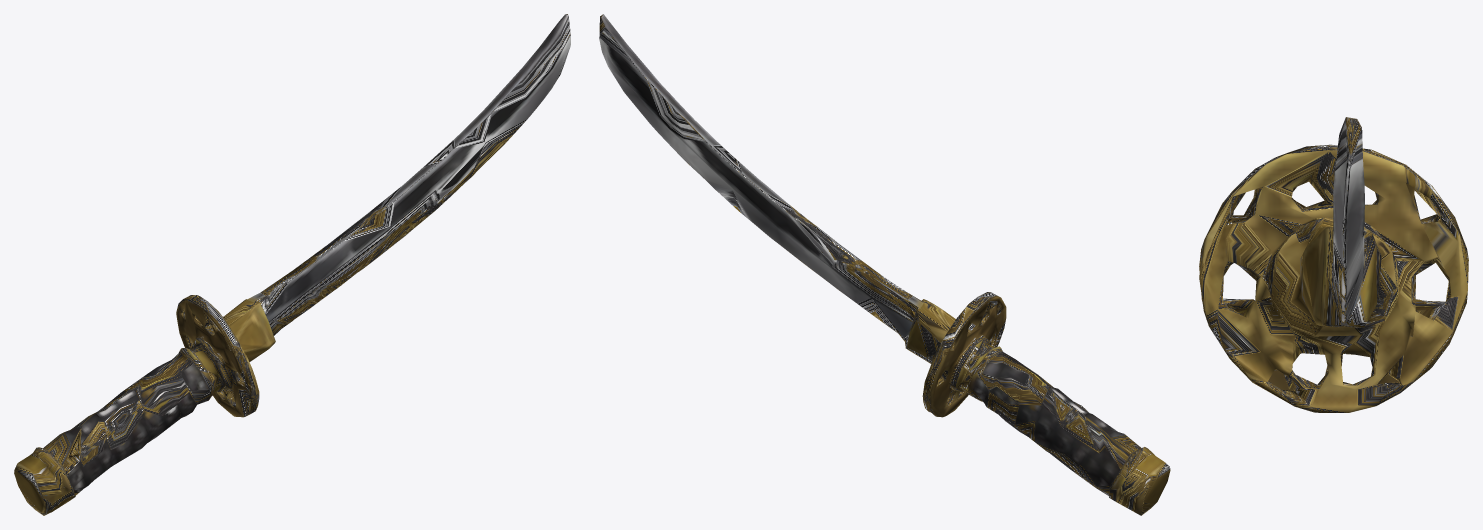
File: w_katana.glb
The picture shows the model from 3 angles, left to right: view 1: azimuth 30°, elevation 25°; view 2: azimuth 150°, elevation 25°; view 3: azimuth 270°, elevation 25°; orthographic projection. The views are drawn at different scales.
Size of the model in its own units: 1 by 0.6333 by 0.2116.
1 material, 1 textured.
